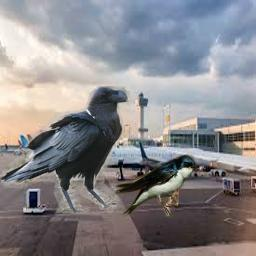Crow: (1, 86, 131, 213)
Swallow: (113, 154, 197, 218)
